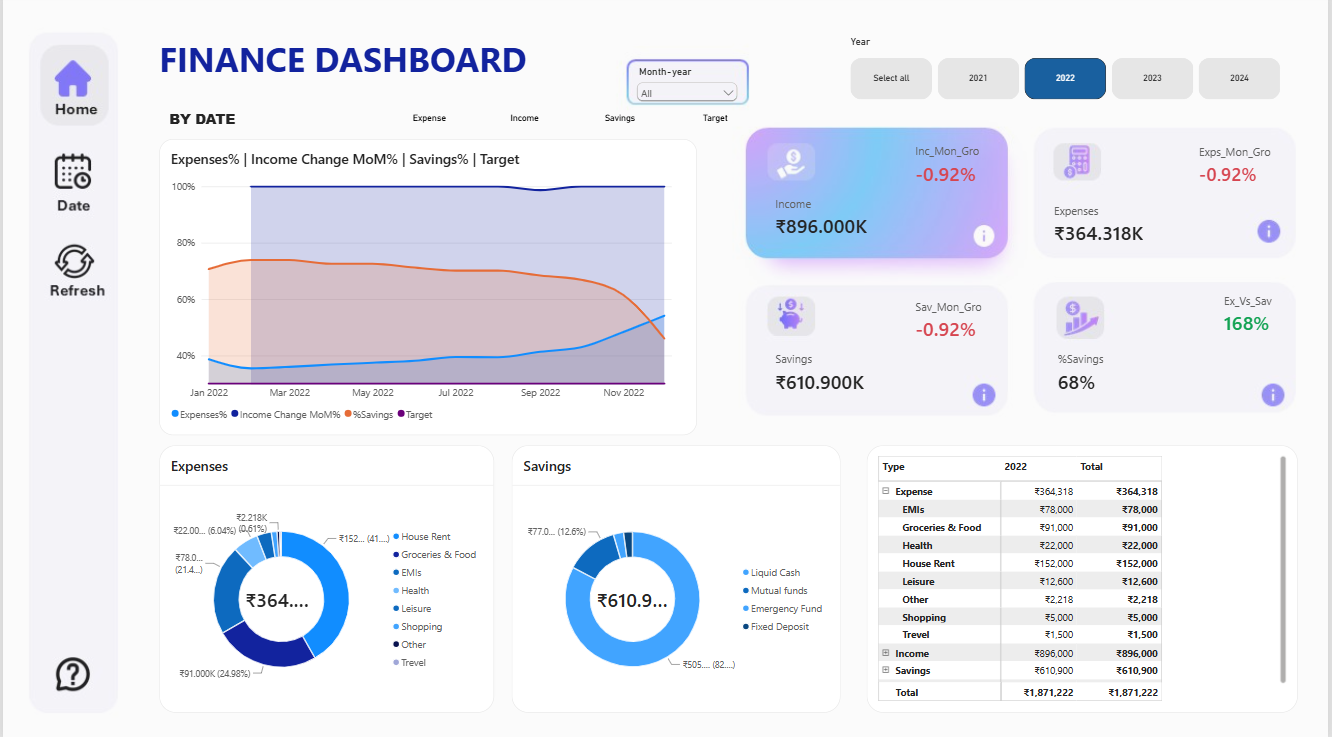

The dashboard page shown, as its layout file describes it:
{"tool":"powerbi","page":{"name":"Finance_DashB","canvas":[1920,1080],"ordinal":0},"visuals":[{"type":"lineChart","title":"Expenses% |  Income Change MoM% |  Savings%   |  Target","fields":{"Category":["FinData.Date"],"Y":["FinData.Expenses%","FinData.Income Change MoM%","FinData.%Savings","FinData.Target"]},"box":[226.3,305.4,778,334.1],"z":0,"group":"g1"},{"type":"donutChart","title":"Savings ","fields":{"Category":["FinData.Component"],"Y":["FinData.Savings"]},"box":[737.2,670.4,474.8,369.8],"z":0},{"type":"cardVisual","fields":{"Data":["FinData.Income"]},"box":[1102.6,239,248.3,169.4],"z":1000},{"type":"advancedSlicerVisual","fields":{"Values":["FinData.Type"]},"box":[549.6,260.5,550.4,44.9],"z":1000,"group":"g1"},{"type":"textbox","title":"BY DATE ","box":[240.9,271.2,308.7,34.2],"z":2000,"group":"g1"},{"type":"cardVisual","fields":{"Data":["FinData.Savings"]},"box":[1102.6,473.7,188.5,150.3],"z":3000},{"type":"cardVisual","fields":{"Data":["FinData.Expenses"]},"box":[1505.3,257.9,210,150.3],"z":4000},{"type":"cardVisual","fields":{"Data":["FinData.%Savings"]},"box":[1510.5,473.7,105.3,150],"z":5000},{"type":"advancedSlicerVisual","fields":{"Values":["FinData.year"]},"box":[1226.7,60,625.1,93.1],"z":6000},{"type":"donutChart","title":"Expenses ","fields":{"Category":["FinData.Component"],"Y":["FinData.Expenses"]},"box":[226.3,671.1,484.2,368.4],"z":7000},{"type":"pivotTable","fields":{"Columns":["FinData.Year"],"Rows":["FinData.Type","FinData.Component"],"Values":["FinData.TotalValue"]},"box":[1250,673.7,625.1,367.4],"z":8000},{"type":"textbox","title":"FINANCE DASHBOARD","box":[226.3,155.3,400.8,74],"z":9000},{"type":"group","id":"g1","title":"Group 1","box":[226.3,260.5,873.7,378.9],"z":10000},{"type":"slicer","fields":{"Values":["FinData.Month-yr"]},"box":[905.3,89.5,171.1,84.2],"z":11000},{"type":"cardVisual","fields":{"Data":["FinData.Expenses_Monthly_Growth"]},"box":[1715.8,192.1,159.9,112.1],"z":14000},{"type":"cardVisual","fields":{"Data":["FinData.Income_Monthly_Growth"]},"box":[1305.3,184.2,234,126.6],"z":15000},{"type":"cardVisual","fields":{"Data":["FinData.Savings_Monthly_Growth"]},"box":[1305.3,415.8,188.5,112.1],"z":16000},{"type":"cardVisual","fields":{"Data":["FinData.Ex_Vs_Sav"]},"box":[1752.6,389.5,147.4,150],"z":17000},{"type":"actionButton","title":"Show","box":[68.4,223.7,60.5,60.5],"z":18500},{"type":"shape","box":[68.4,355.3,86.8,94.7],"z":18501}]}

Visuals, with their boxes on the page's 1920x1080 design canvas (x1, y1, x2, y2). These are canvas units, not pixel positions in the 1332x737 screenshot, which may show the page scaled, cropped or inside an application window:
"Expenses% |  Income Change MoM% |  Savings%   |  Target" lineChart: l=226, t=305, r=1004, b=640
"Savings " donutChart: l=737, t=670, r=1212, b=1040
cardVisual - FinData.Income: l=1103, t=239, r=1351, b=408
advancedSlicerVisual - FinData.Type: l=550, t=260, r=1100, b=305
"BY DATE " textbox: l=241, t=271, r=550, b=305
cardVisual - FinData.Savings: l=1103, t=474, r=1291, b=624
cardVisual - FinData.Expenses: l=1505, t=258, r=1715, b=408
cardVisual - FinData.%Savings: l=1510, t=474, r=1616, b=624
advancedSlicerVisual - FinData.year: l=1227, t=60, r=1852, b=153
"Expenses " donutChart: l=226, t=671, r=710, b=1040
pivotTable - FinData.Year x FinData.Type: l=1250, t=674, r=1875, b=1041
"FINANCE DASHBOARD" textbox: l=226, t=155, r=627, b=229
"Group 1" group: l=226, t=260, r=1100, b=639
slicer - FinData.Month-yr: l=905, t=90, r=1076, b=174
cardVisual - FinData.Expenses_Monthly_Growth: l=1716, t=192, r=1876, b=304
cardVisual - FinData.Income_Monthly_Growth: l=1305, t=184, r=1539, b=311
cardVisual - FinData.Savings_Monthly_Growth: l=1305, t=416, r=1494, b=528
cardVisual - FinData.Ex_Vs_Sav: l=1753, t=390, r=1900, b=540
"Show" actionButton: l=68, t=224, r=129, b=284
shape: l=68, t=355, r=155, b=450
